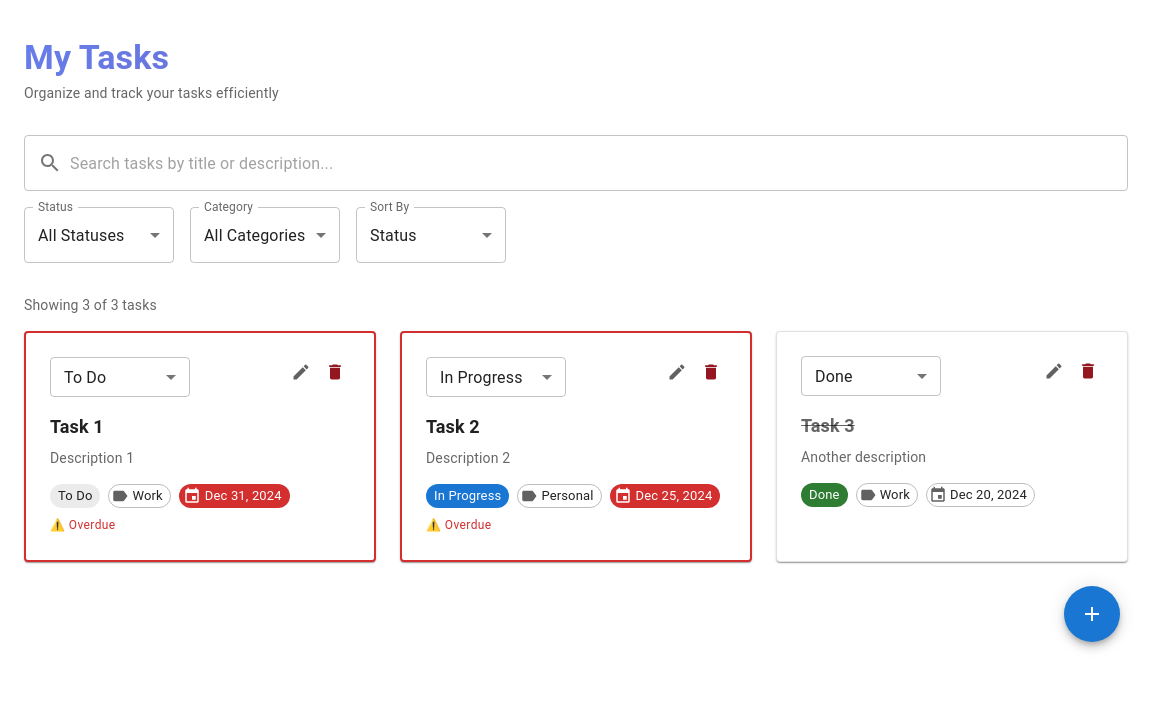
Test: TaskList › Delete Task › should show delete confirmation dialog
The image size is (1152, 720).
Check: the heading "Task 1" is shown, box [50,416,104,437]
Click the 1st button named "delete task": (335, 372) [320,357,350,387]
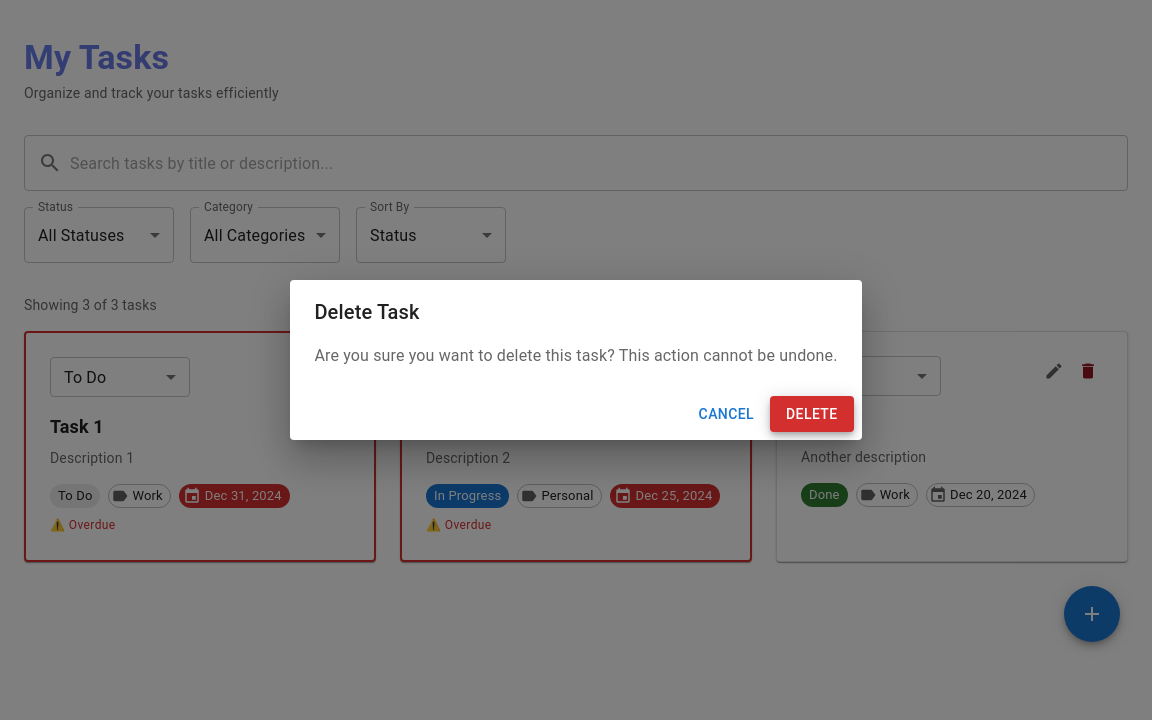
Check: the heading "Delete Task" is shown, box [314,300,420,324]
Check: the text "Are you sure you want to delete" is shown, box [314,346,838,365]
